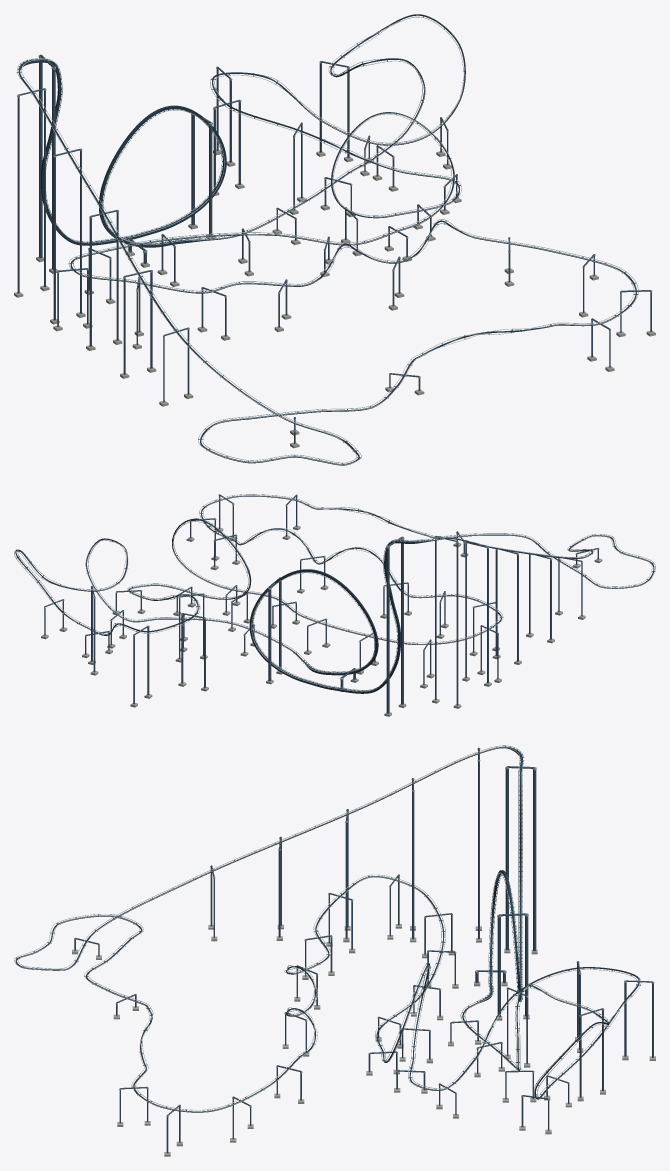
The model's file is coaster-full-structure-far.glb.
3 views of the same model, one above another, from view 1: azimuth 30°, elevation 25°; view 2: azimuth 150°, elevation 25°; view 3: azimuth 270°, elevation 25° (orthographic). The views are drawn at different scales.
Parts seen in each view (by area): view 1: supportCoat, spineCoat, runningSteel, grout, tieCoat, connectionSteel; view 2: supportCoat, spineCoat, runningSteel, grout, tieCoat, connectionSteel; view 3: supportCoat, runningSteel, spineCoat, grout, tieCoat, connectionSteel.
Boxes of the visible parts, x1=… form: supportCoat: x1=17, y1=54, x2=651, y2=443; spineCoat: x1=18, y1=14, x2=636, y2=465; runningSteel: x1=17, y1=16, x2=638, y2=464; grout: x1=14, y1=149, x2=655, y2=448; tieCoat: x1=16, y1=16, x2=638, y2=465; connectionSteel: x1=17, y1=55, x2=652, y2=444; supportCoat: x1=44, y1=494, x2=598, y2=713; spineCoat: x1=15, y1=495, x2=654, y2=693; runningSteel: x1=14, y1=494, x2=655, y2=691; grout: x1=41, y1=525, x2=602, y2=716; tieCoat: x1=14, y1=494, x2=655, y2=692; connectionSteel: x1=43, y1=495, x2=599, y2=714; supportCoat: x1=74, y1=747, x2=653, y2=1152; runningSteel: x1=14, y1=745, x2=641, y2=1111; spineCoat: x1=15, y1=746, x2=639, y2=1112; grout: x1=72, y1=924, x2=655, y2=1156; tieCoat: x1=16, y1=746, x2=640, y2=1112; connectionSteel: x1=74, y1=748, x2=654, y2=1153.
Size of the model in its own units: 214 by 94.44 by 257.
